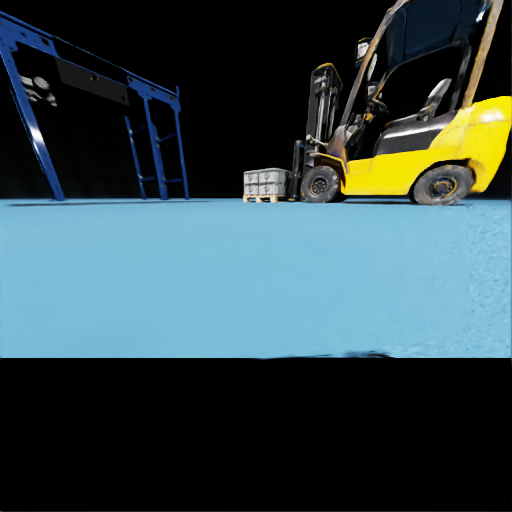transportation_area: (267, 182, 290, 194), (259, 183, 265, 194), (22, 33, 25, 36)
